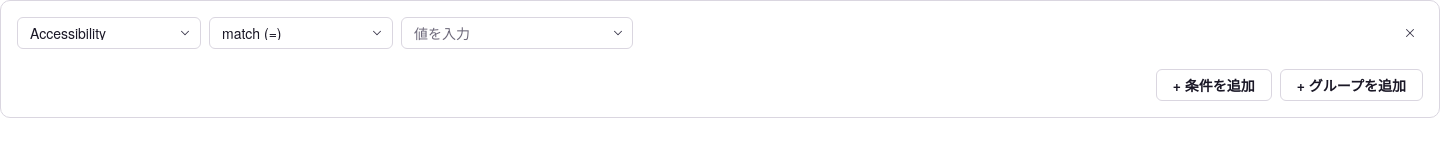
Test case: ConditionRow facet value input › facetableField_listsScopeBucketsAsOptions
This screenshot has width=1440, height=160.
Press the mouse on the dropdown labelled "値を入力": (517, 33) [401,17,633,49]
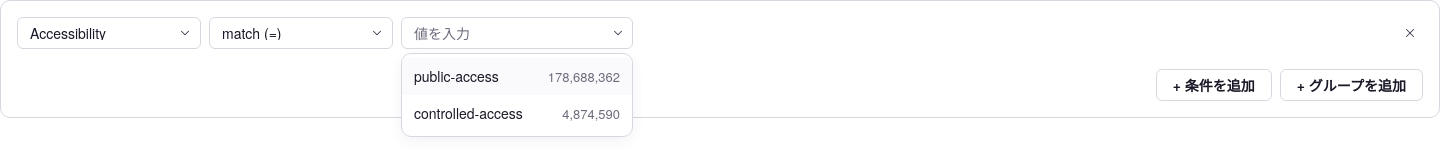
expect the option "public-access 178,688,362" is shown: met, box [402,58,632,95]
expect the option "controlled-access 4,874,590" is shown: met, box [402,95,632,132]
